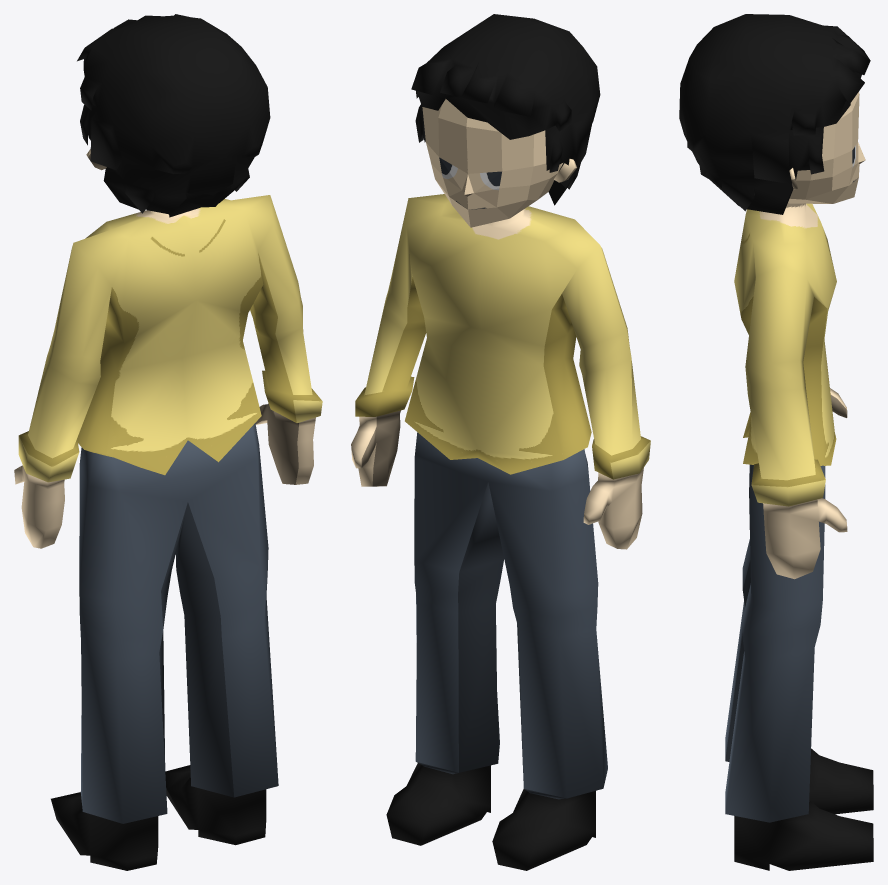
Rendered from M SHORT HAIR.glb.
3 renders of one model, left to right at view 1: azimuth 30°, elevation 25°; view 2: azimuth 150°, elevation 25°; view 3: azimuth 270°, elevation 25°, orthographic. The views are drawn at different scales.
Parts seen in each view (by area): view 1: MEN OFFICE, SHORT HAIR; view 2: MEN OFFICE, SHORT HAIR, MAN HEAD; view 3: MEN OFFICE, SHORT HAIR, MAN HEAD.
Boxes of the visible parts, box(x1,y1,x2,y2) form: MEN OFFICE: box(14, 195, 322, 870); SHORT HAIR: box(77, 14, 270, 217); MEN OFFICE: box(351, 194, 650, 870); SHORT HAIR: box(411, 14, 600, 205); MAN HEAD: box(422, 99, 560, 227); MEN OFFICE: box(725, 203, 873, 870); SHORT HAIR: box(679, 14, 870, 214); MAN HEAD: box(788, 92, 865, 203).
Bounding box in the file's own units: 3.32 × 9.03 × 1.98.
Materials: 4 (4 with a texture image).
